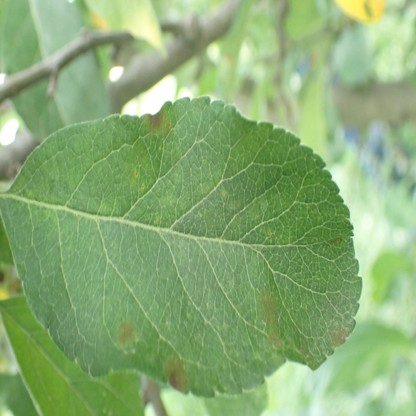scab: (258, 291, 282, 346), (165, 357, 190, 395), (118, 321, 135, 350), (147, 106, 164, 132), (331, 328, 350, 346)
